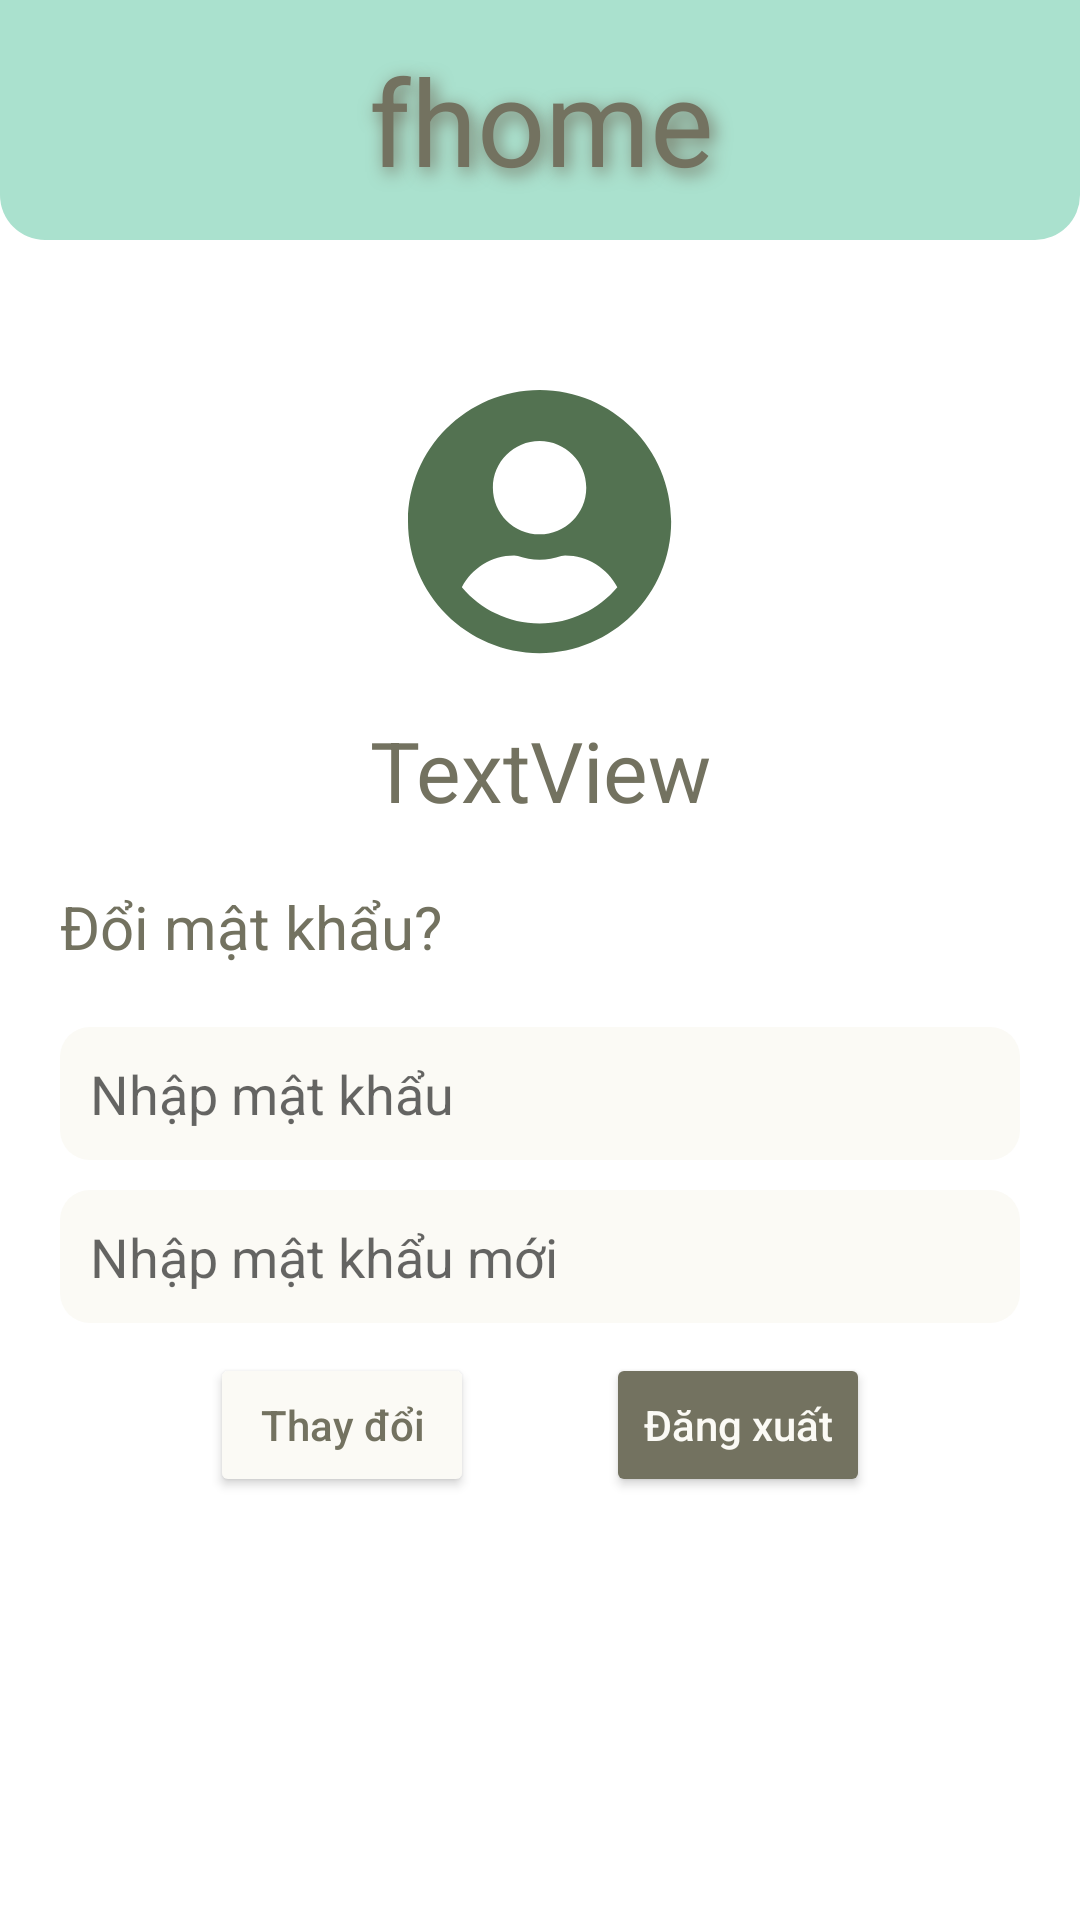

Named icons in this screenshot (1080*1920) and their centers, (x,y):
user: (540,522)
